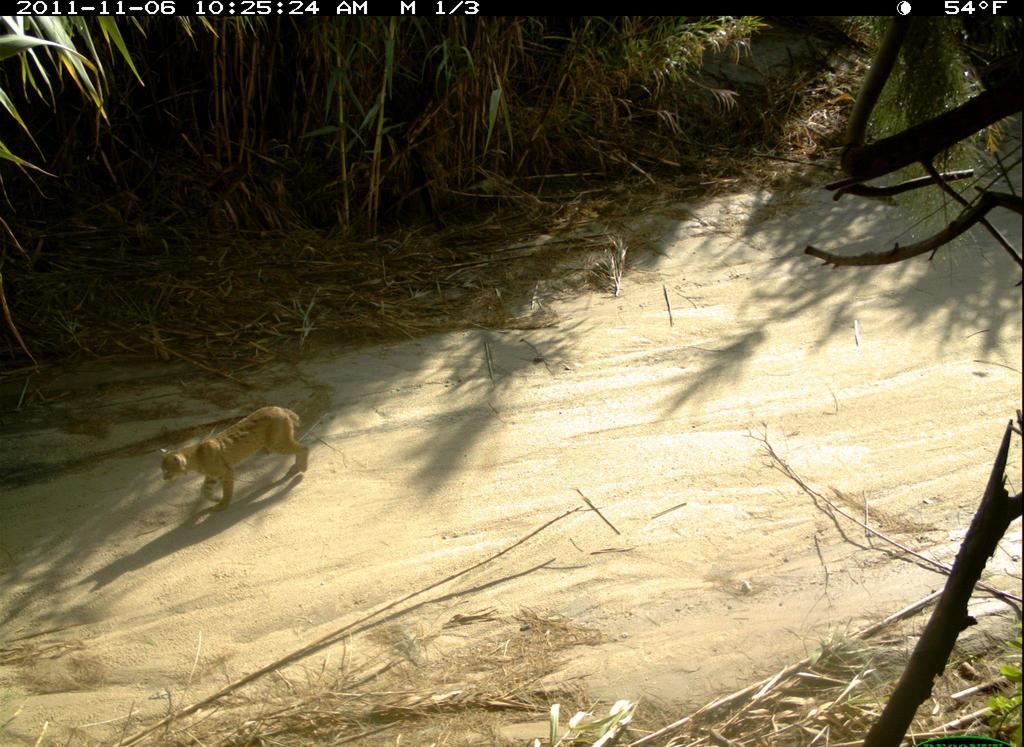bobcat: (155, 399, 314, 518)
